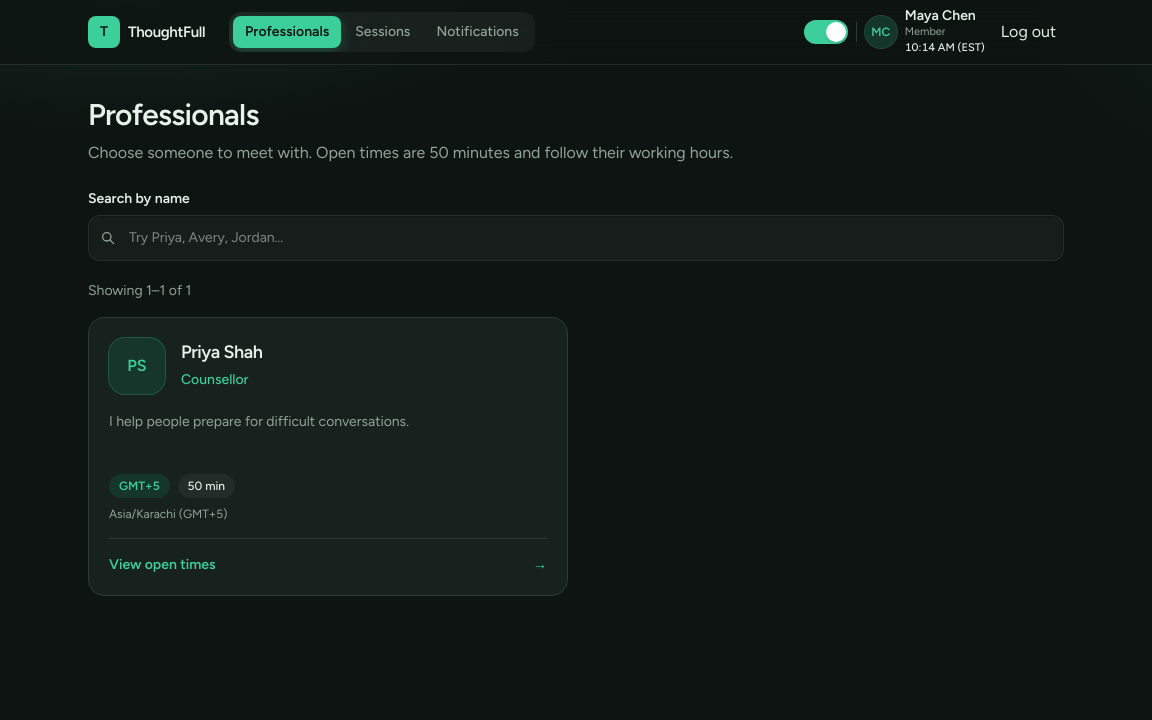
Test: booking screens › books a visible slot without sending a user id and ignores extra slot fields
Click the link "Priya Shah": (137, 366) [88,317,568,596]
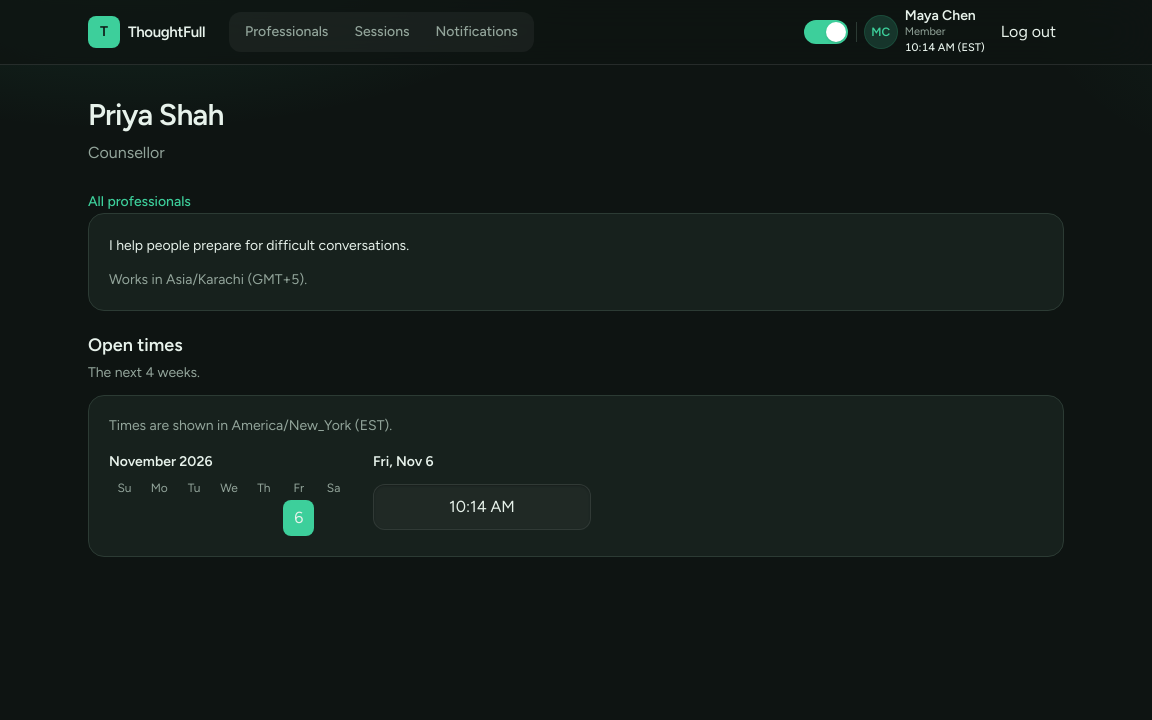
Click the button "10:14 AM": (482, 507) [373,484,591,530]
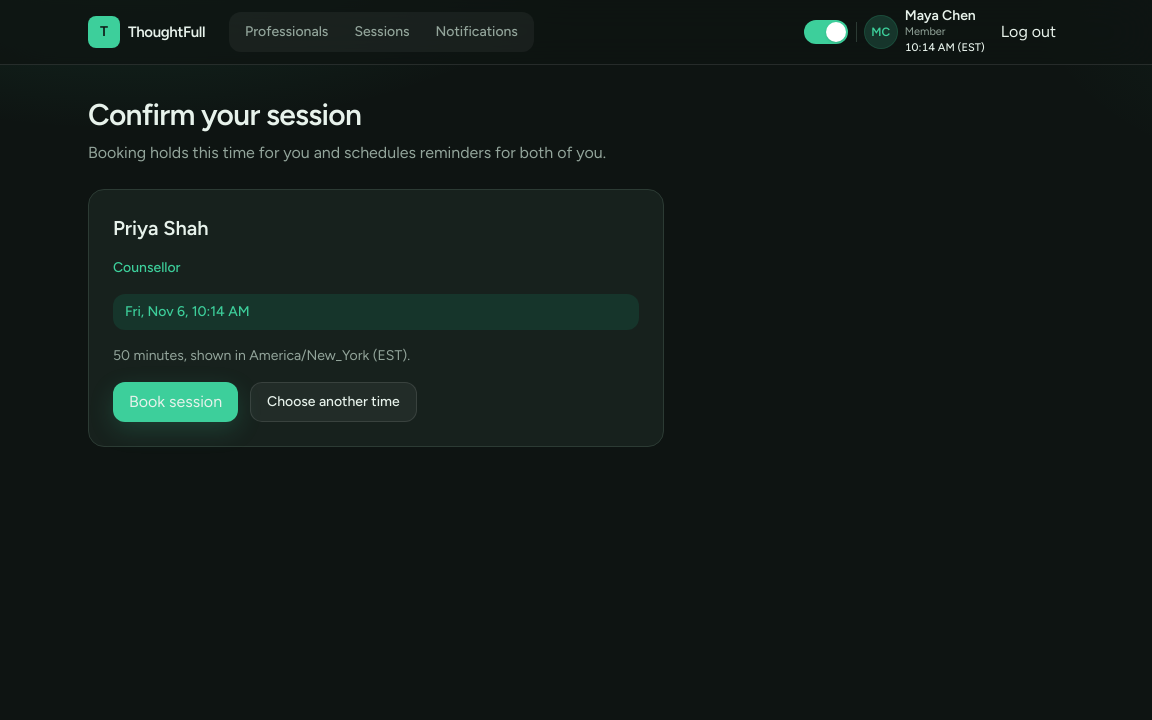
Expected: the heading "Confirm your session" is shown, [88,96,361,133]
Click the button "Book session": (176, 402) [113,382,238,422]
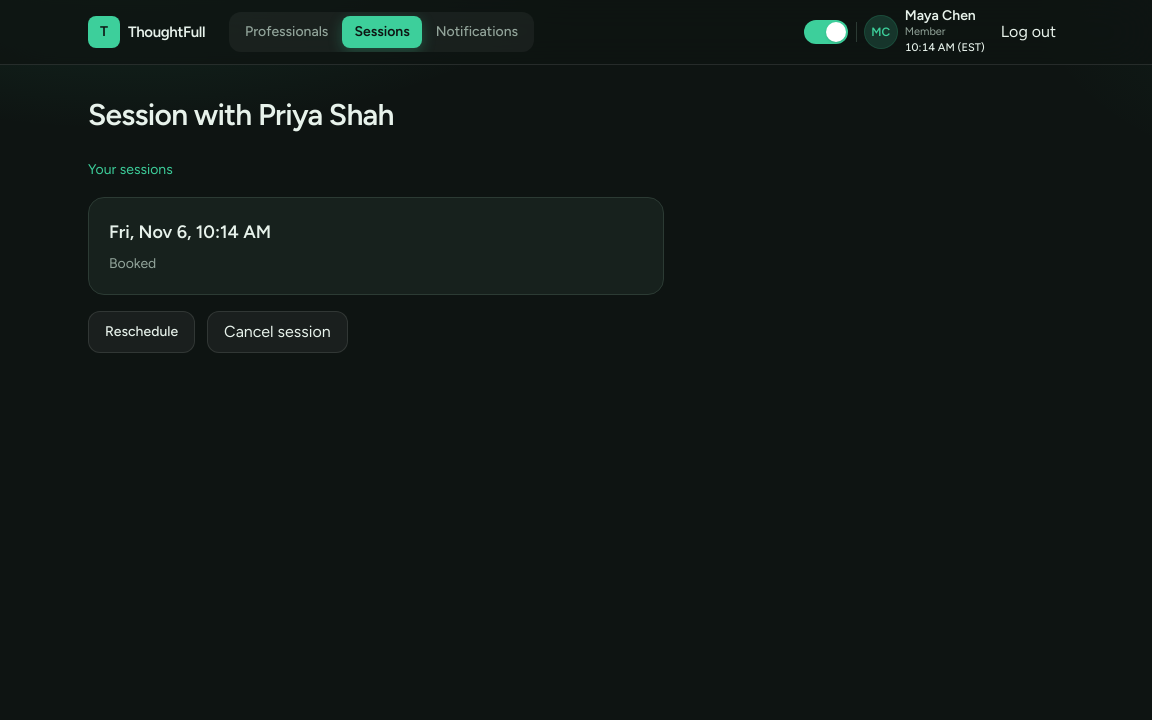
Expected: the heading "Session with Priya Shah" is shown, [88,96,394,133]
Expected: the link "Reschedule" is shown, [88,311,195,353]
